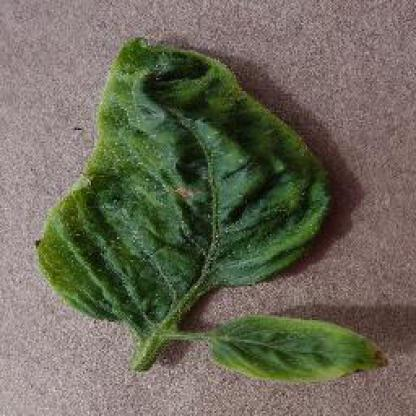bad leaf: (18, 33, 399, 404)
